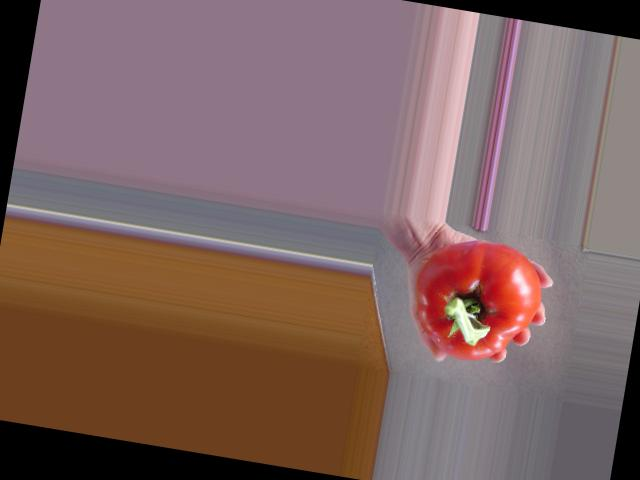tomato: (406, 231, 549, 370)
